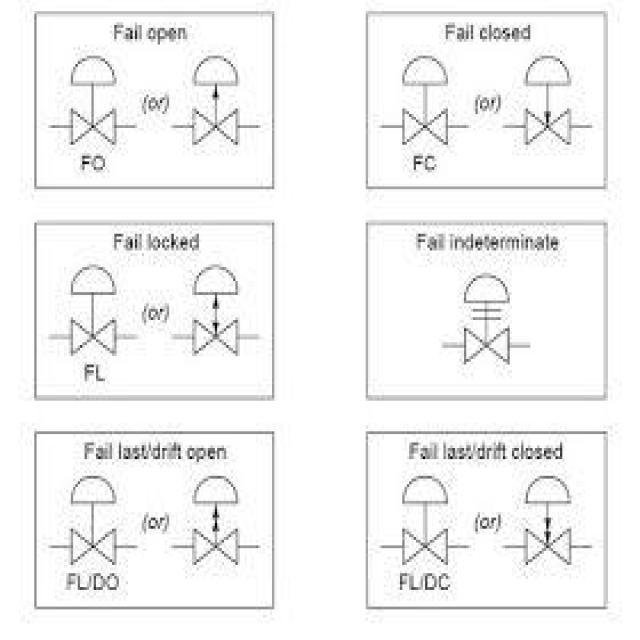Fail Indeterminate Safe Position: (426, 262, 530, 378), (515, 45, 570, 154)
Fail Lock Safe Position: (184, 258, 249, 360)
Fail Open Safe Position: (184, 54, 242, 150)
